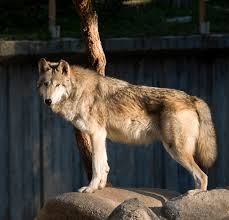Lobo: (29, 54, 216, 193)
